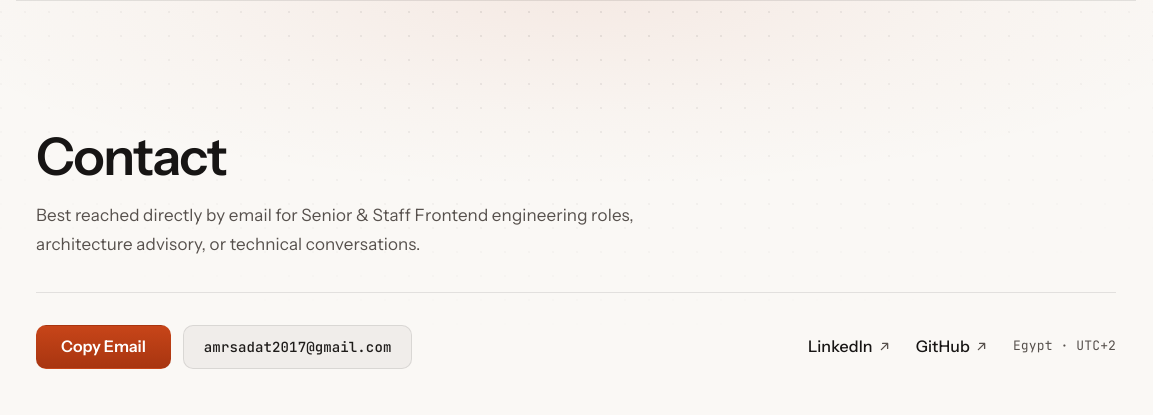
ContactSection › handles clipboard unavailability or rejection gracefully with a polite fallback message
The image size is (1153, 415).
Click the button "Copy Email": coordinates (103, 347) [36,325,171,369]
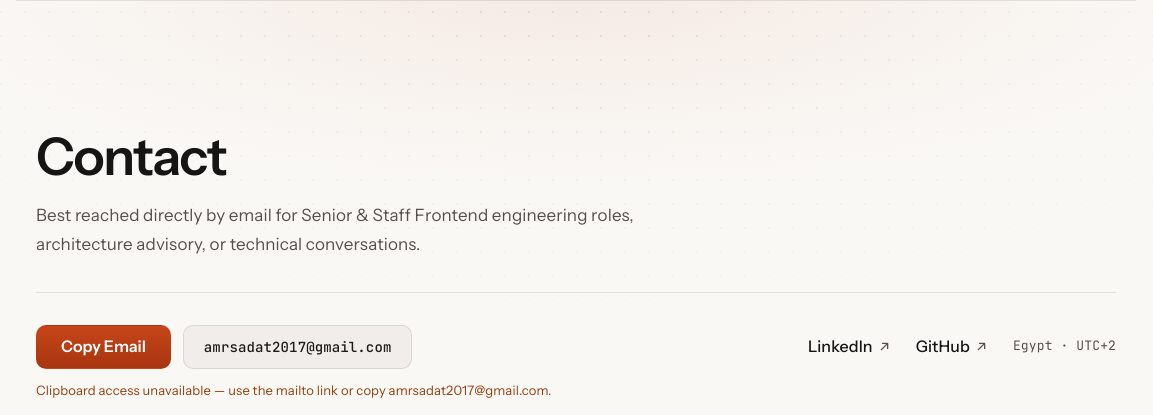
Now the message shows "amrsadat2017@gmail.com", box [36,382,552,398]
